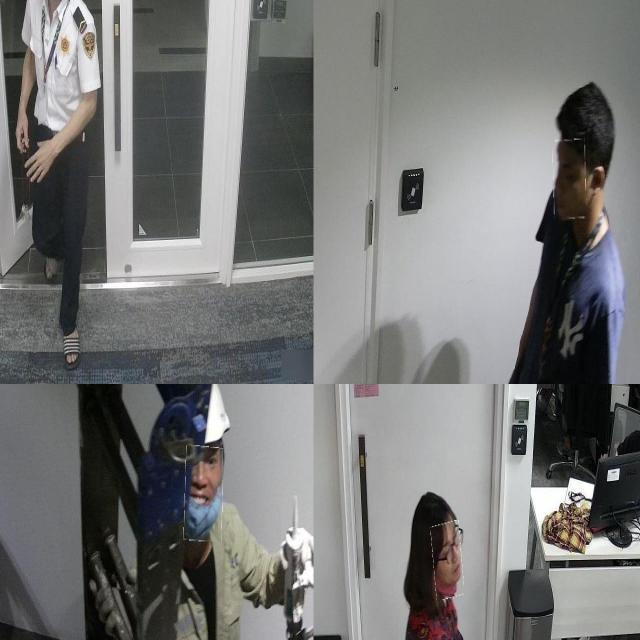hairnet: (184, 446, 223, 542), (432, 522, 463, 600)
